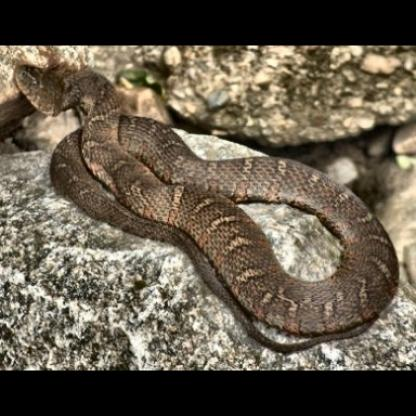Snake: (13, 60, 412, 356)
